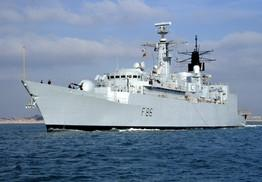warship: (20, 16, 252, 132)
